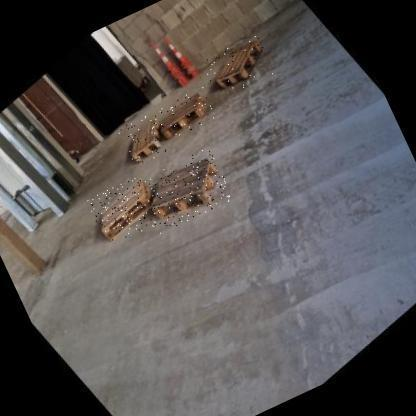pallet: (151, 160, 218, 219), (101, 182, 153, 240), (216, 40, 263, 87), (159, 96, 206, 139), (129, 123, 161, 161), (237, 58, 243, 65)
